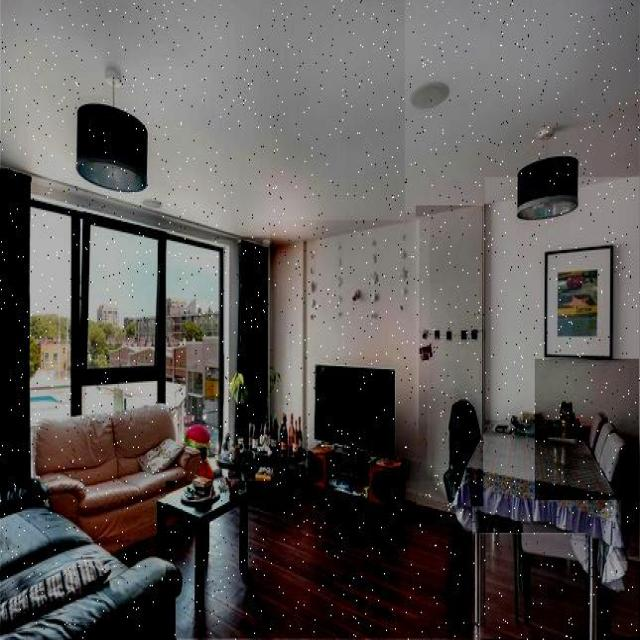Wall: (0, 0, 459, 240), (405, 1, 640, 213), (166, 481, 471, 639), (168, 483, 472, 639), (270, 221, 430, 503), (485, 178, 639, 420), (416, 206, 483, 506), (535, 360, 640, 500), (480, 534, 585, 637), (481, 536, 585, 639), (611, 562, 640, 637), (621, 499, 640, 557), (119, 541, 155, 564)
